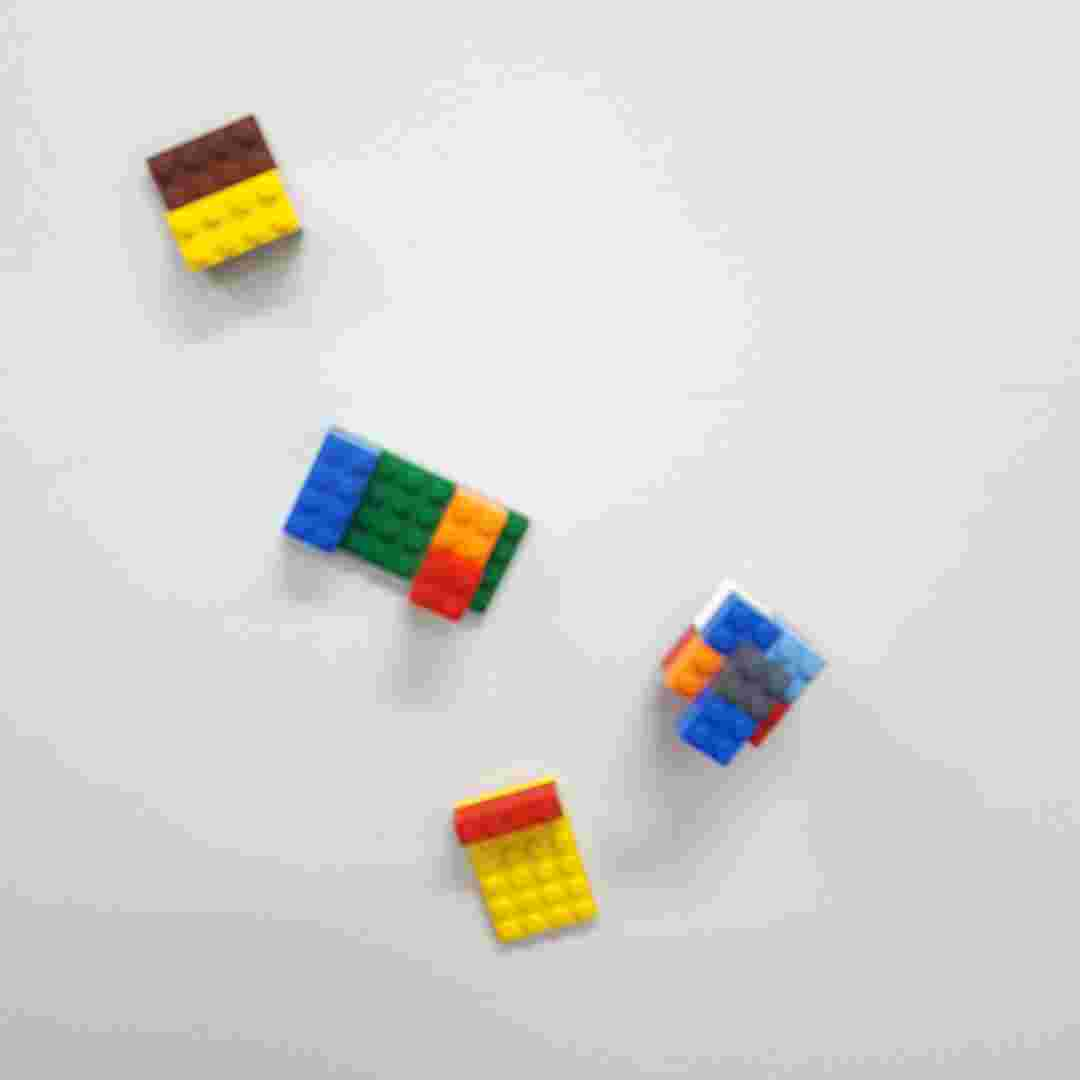LEGO: (276, 422, 535, 627), (651, 581, 828, 765), (144, 112, 318, 276), (448, 768, 604, 949)
